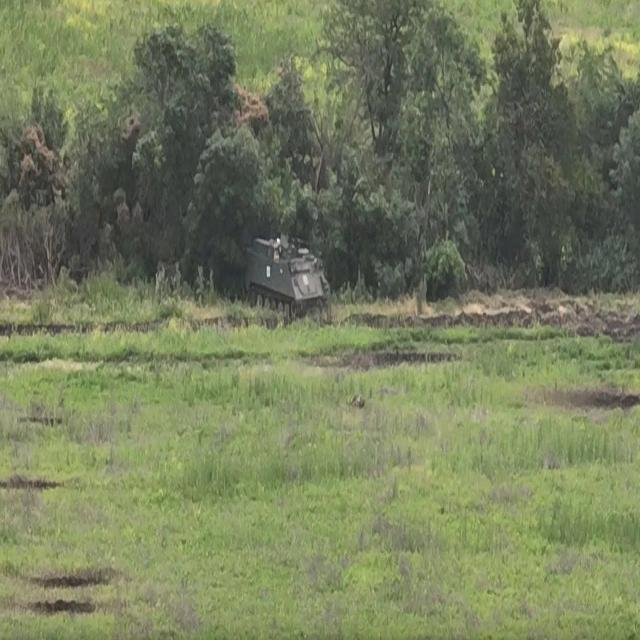APC: (246, 230, 331, 326)
